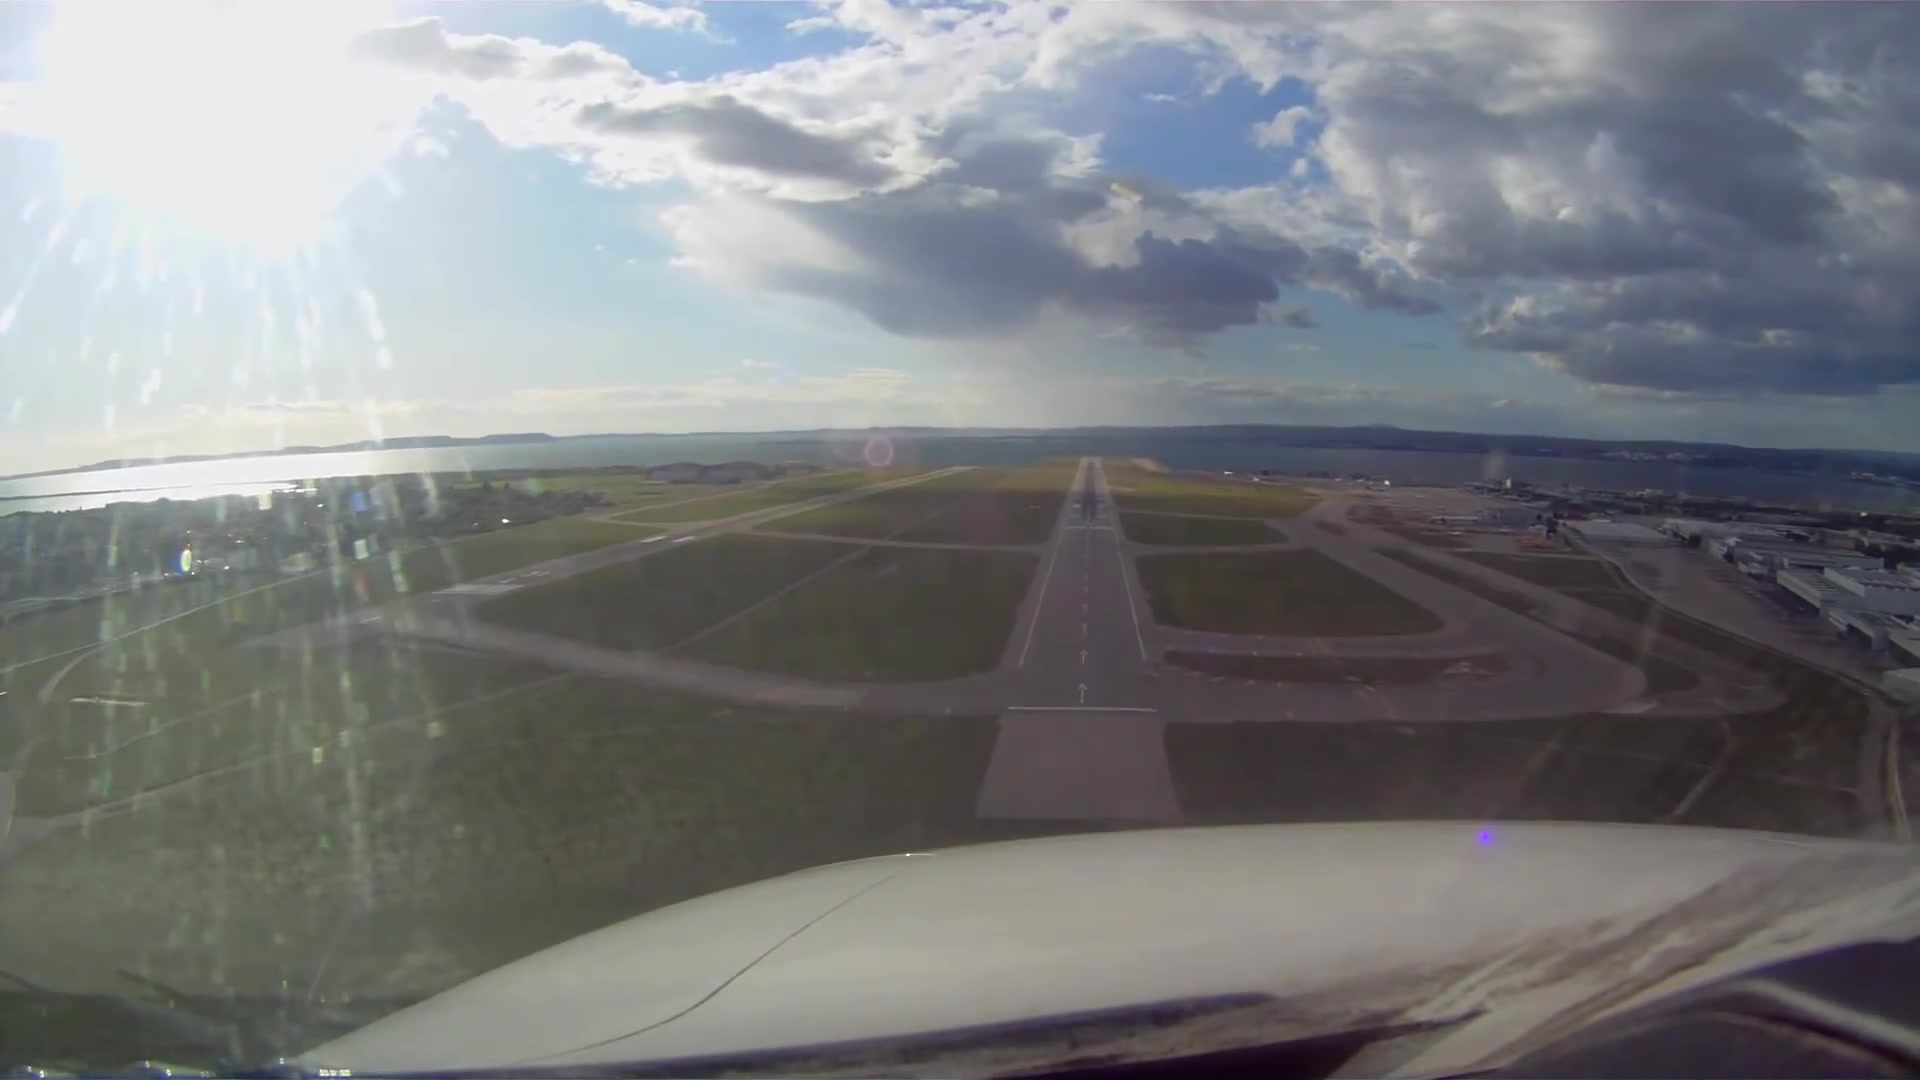runway: (1004, 456, 1168, 723)
